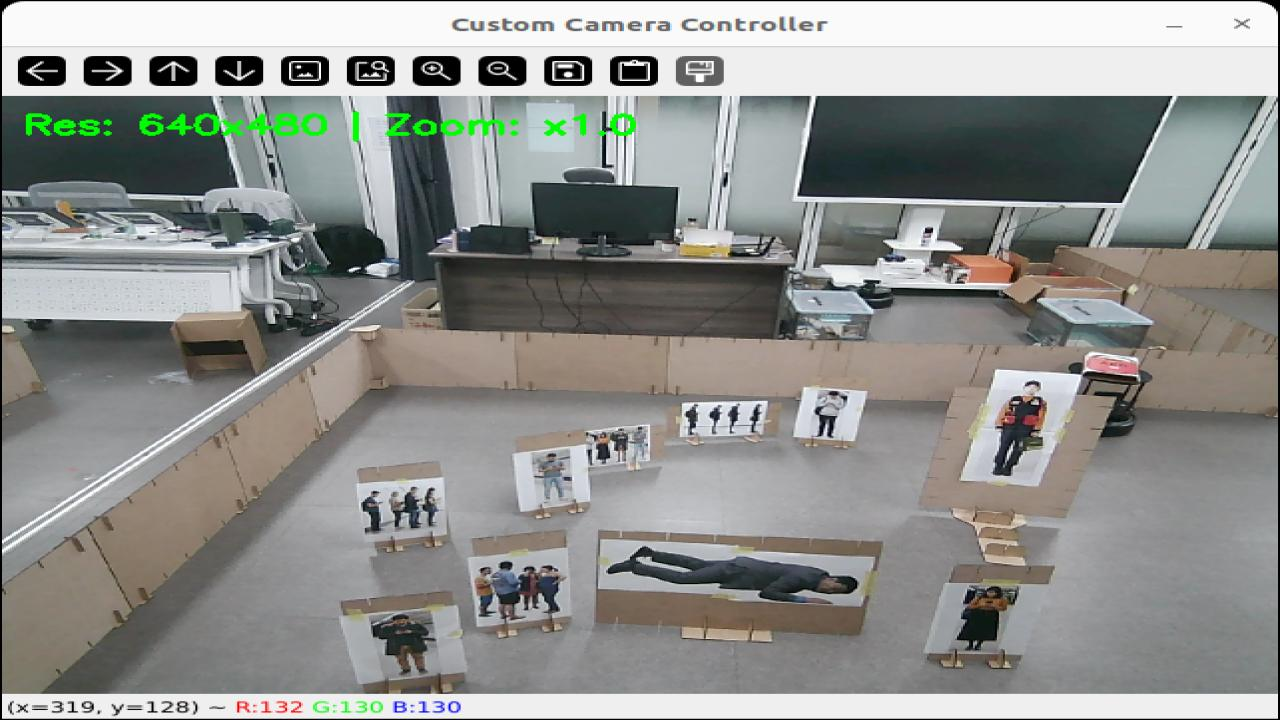Crowd: (378, 613, 436, 675), (960, 585, 1009, 651), (494, 562, 522, 618), (538, 452, 570, 501), (540, 563, 568, 613), (814, 391, 844, 437), (362, 486, 387, 536), (473, 564, 496, 618), (523, 566, 540, 610), (613, 428, 630, 462), (748, 403, 763, 433), (730, 403, 744, 434), (634, 426, 647, 459), (686, 404, 699, 435), (598, 432, 610, 464), (710, 404, 722, 436), (585, 432, 594, 462)
Patient: (608, 546, 855, 603)
Responder: (991, 381, 1047, 475)
